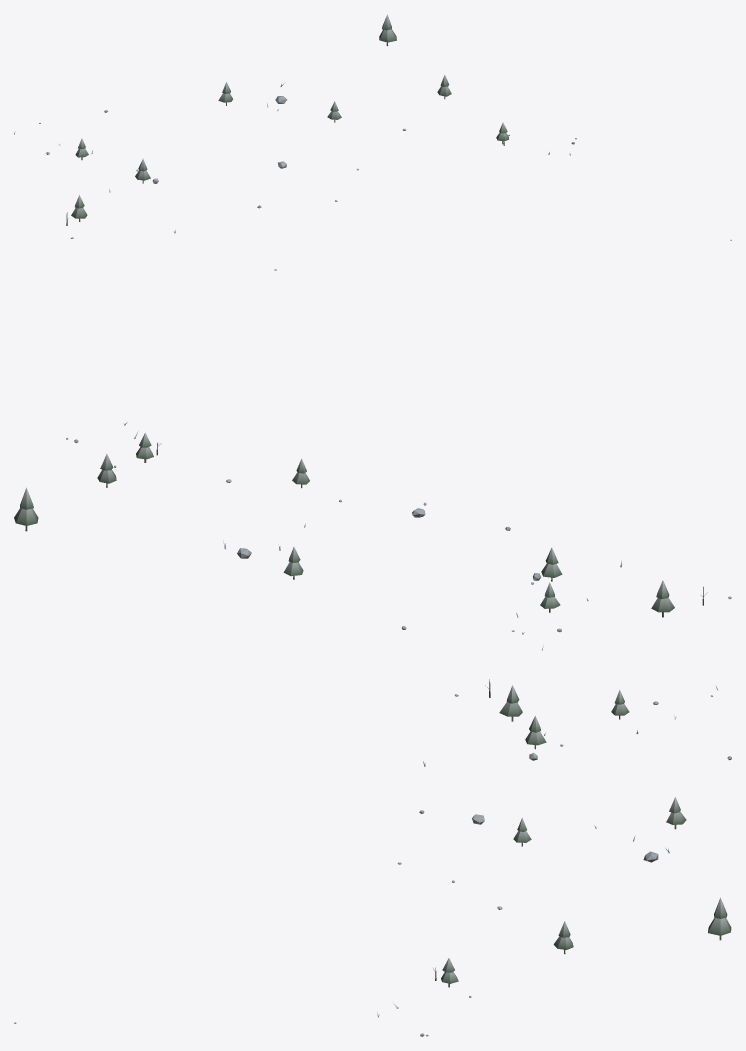
File: frost_land_scatter_c20_10_lod1.glb
3 renders of one model, top to bottom at view 1: azimuth 30°, elevation 25°; view 2: azimuth 150°, elevation 25°; view 3: azimuth 270°, elevation 25°, orthographic. The views are drawn at different scales.
Visible parts, largest first — view 1: frost_land_scatter_c20_10_lod1; view 2: frost_land_scatter_c20_10_lod1; view 3: frost_land_scatter_c20_10_lod1.
Boxes of the visible parts, x1,y1,x2,y2 form: frost_land_scatter_c20_10_lod1: (14, 14, 731, 240); frost_land_scatter_c20_10_lod1: (14, 269, 731, 650); frost_land_scatter_c20_10_lod1: (14, 679, 731, 1036).
Size of the model in its own units: 253 by 32.69 by 236.
